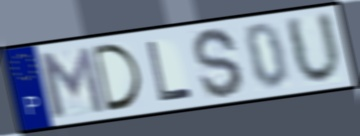0: (244, 20, 290, 92)
D: (89, 41, 145, 114)
L: (144, 38, 196, 103)
M: (35, 44, 108, 120)
S: (191, 25, 246, 101)
U: (282, 9, 345, 88)
